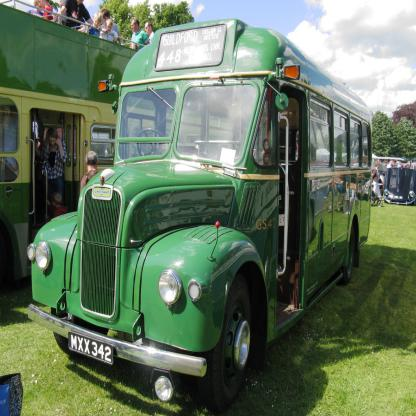Bus: (27, 20, 373, 406), (0, 0, 147, 288)
